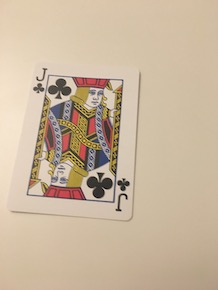JackOfClubs: (6, 60, 146, 224)
